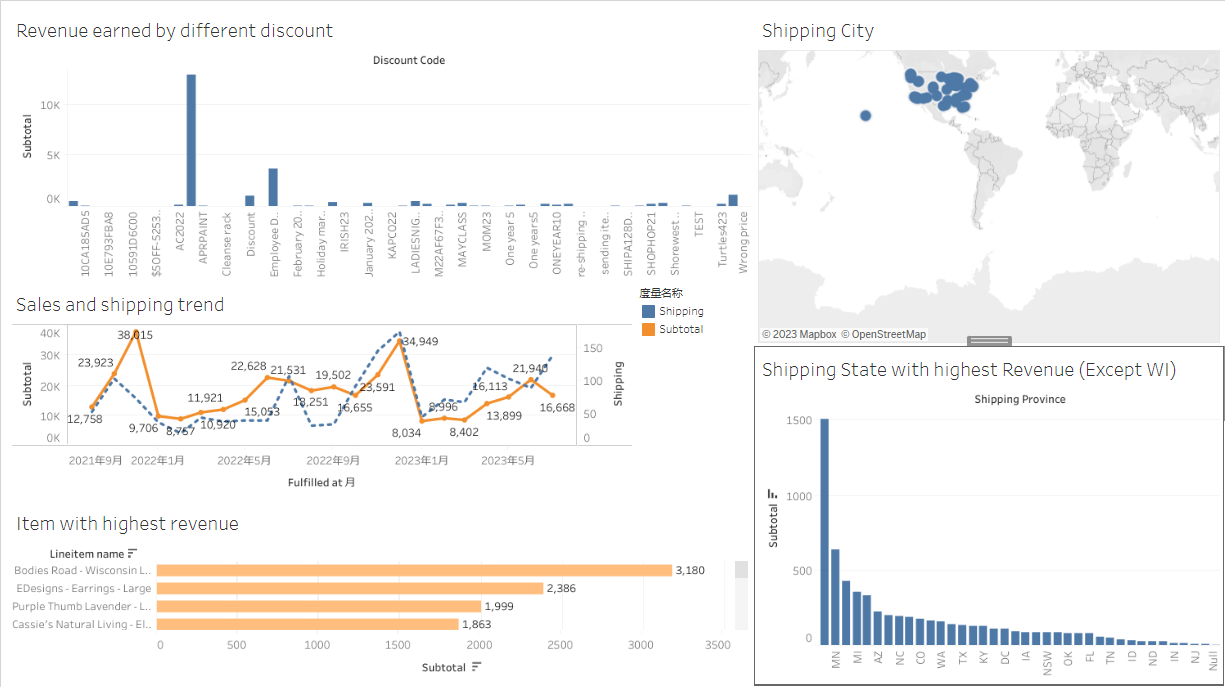

This screenshot's page, from the dashboard's own definition file:
{"tool":"tableau","page":{"name":"仪表板 1","canvas":[1366,768],"ordinal":0},"visuals":[{"type":"worksheet","title":"工作表 2","mark":"Automatic","rows":["Subtotal"],"cols":["Discount Code"],"box":[8,8,828.6,304]},{"type":"worksheet","title":"Sheet 1","mark":"Automatic","box":[836.6,8,521.4,376]},{"type":"worksheet","title":"工作表 6","mark":"Automatic","rows":["Subtotal","Shipping"],"cols":["Fulfilled at"],"box":[8,312,696.9,242.7]},{"type":"legend","title":"工作表 6","param":"[federated.0a7s343138sgw313qulix1x2opgu].[:Measure Names]","box":[704.9,312,131.7,67]},{"type":"worksheet","title":"工作表 5","mark":"Automatic","rows":["Subtotal"],"cols":["Shipping Province"],"box":[836.6,384,521.4,376]},{"type":"worksheet","title":"工作表 3","mark":"Automatic","rows":["Lineitem name"],"cols":["Subtotal"],"box":[8,554.7,828.6,205.3]}]}

Visuals, with their boxes in screenshot pixels (x1, y1, x2, y2), scaled from the page's 1366x768 canvas onto the 1225x687 screenshot:
"工作表 2" worksheet: bbox=(7, 7, 750, 279)
"Sheet 1" worksheet: bbox=(750, 7, 1218, 344)
"工作表 6" worksheet: bbox=(7, 279, 632, 496)
"工作表 6" legend: bbox=(632, 279, 750, 339)
"工作表 5" worksheet: bbox=(750, 344, 1218, 680)
"工作表 3" worksheet: bbox=(7, 496, 750, 680)
